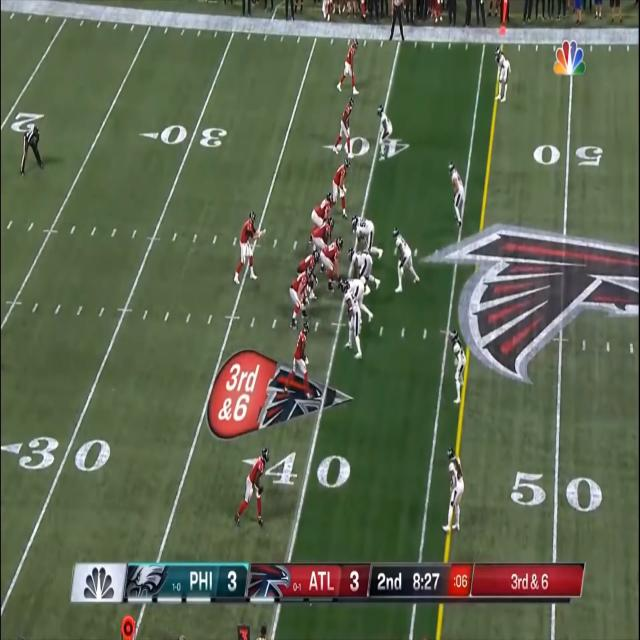players: (234, 448, 269, 530), (233, 211, 265, 286), (393, 225, 424, 297), (443, 449, 466, 535), (340, 282, 364, 364), (288, 265, 315, 333), (346, 248, 382, 298), (320, 233, 347, 298), (336, 32, 362, 99), (331, 99, 358, 160), (351, 214, 385, 262), (290, 324, 314, 391), (446, 158, 465, 236), (332, 156, 354, 222), (448, 331, 466, 409), (494, 42, 514, 108), (309, 194, 336, 237), (298, 244, 322, 289), (308, 218, 336, 253), (379, 104, 393, 171)
